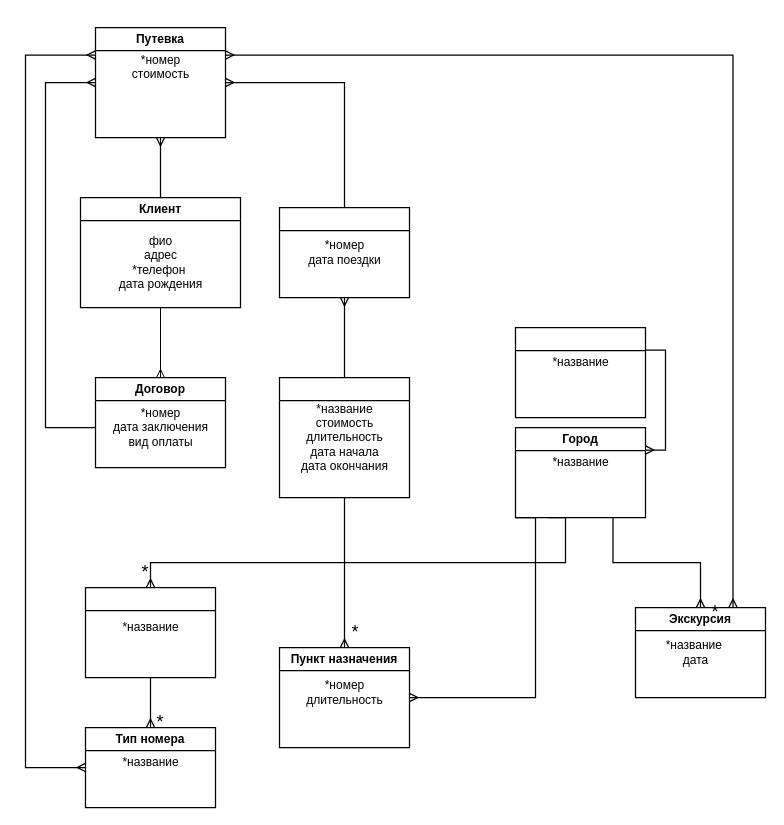
Some shapes in this 784 by 825 pixel diagram are drawn without their labels. The box of each missing label's shape, as (x1, y1, x2, y2) in pixels:
Гостиница: (84, 586, 216, 678)
Группа: (278, 206, 410, 298)
Маршрут: (278, 376, 410, 498)
Страна: (514, 326, 646, 418)
